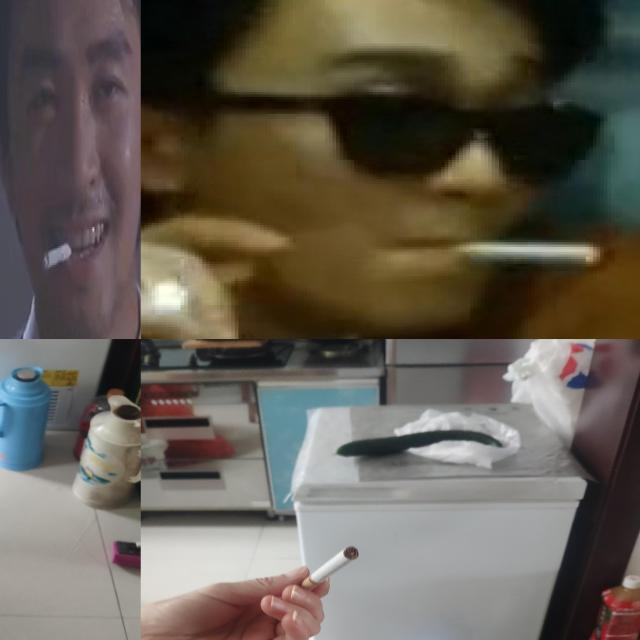smoking: (448, 237, 611, 264), (294, 546, 363, 594), (42, 237, 76, 271)
